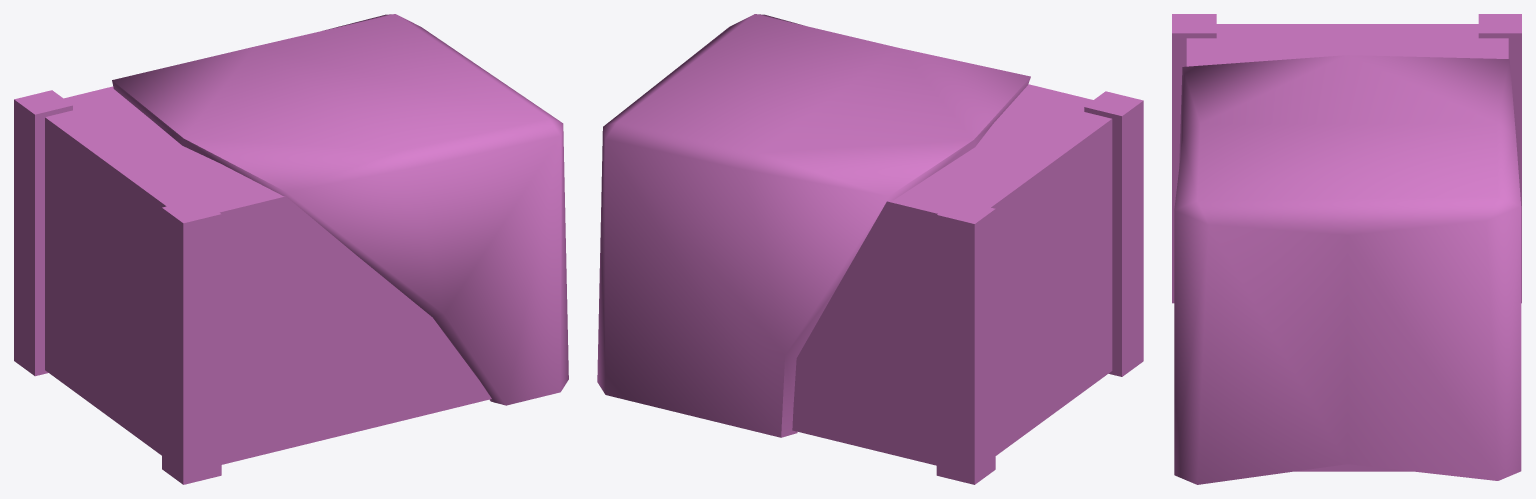
File: Crate_Large2.fbx
The picture shows the model from 3 angles, left to right: view 1: azimuth 30°, elevation 25°; view 2: azimuth 150°, elevation 25°; view 3: azimuth 270°, elevation 25°; orthographic projection. The views are drawn at different scales.
Parts seen in each view (by area): view 1: Crate_Large2; view 2: Crate_Large2; view 3: Crate_Large2.
Part boxes in pixels (box(x1,y1,x2,y2)): Crate_Large2: box(14, 14, 568, 484); Crate_Large2: box(597, 14, 1143, 484); Crate_Large2: box(1172, 14, 1521, 484).
Bounding box in the file's own units: 136 × 87.47 × 100.
